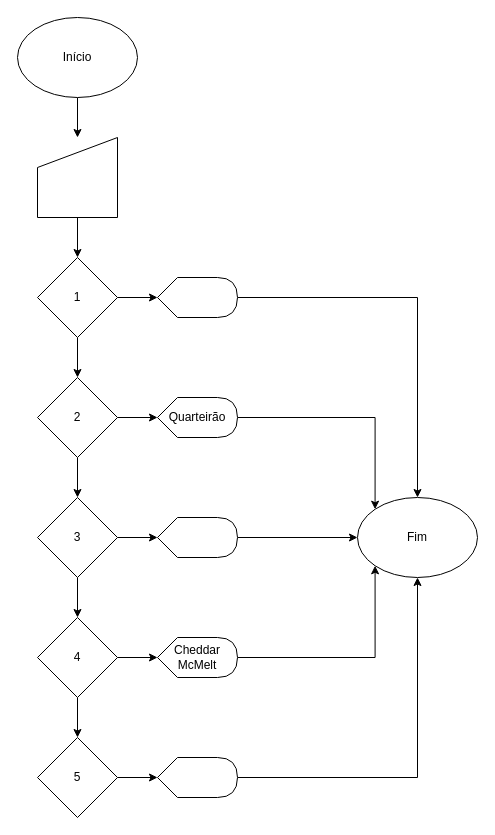
This 495x835 diagram has some shape labels left out. The shapes that lost their labels are listed below. From the top down, each one's centre as x and y in pixels, then its label:
the point at 77,177: código
the point at 197,297: Big Mac
the point at 197,537: McChicken
the point at 197,777: McMax
